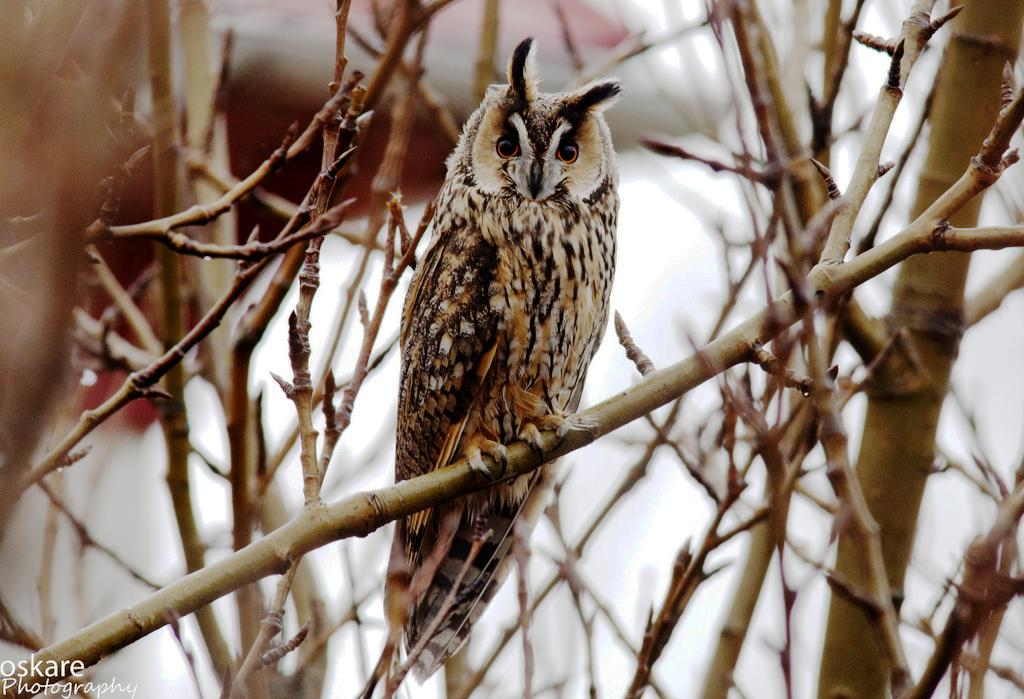Owl: (377, 33, 626, 686)
